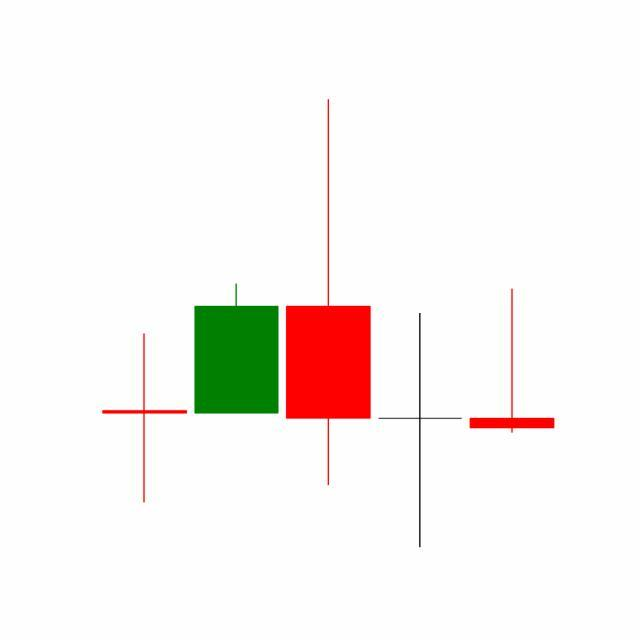Spinning Top: (374, 311, 468, 551)
